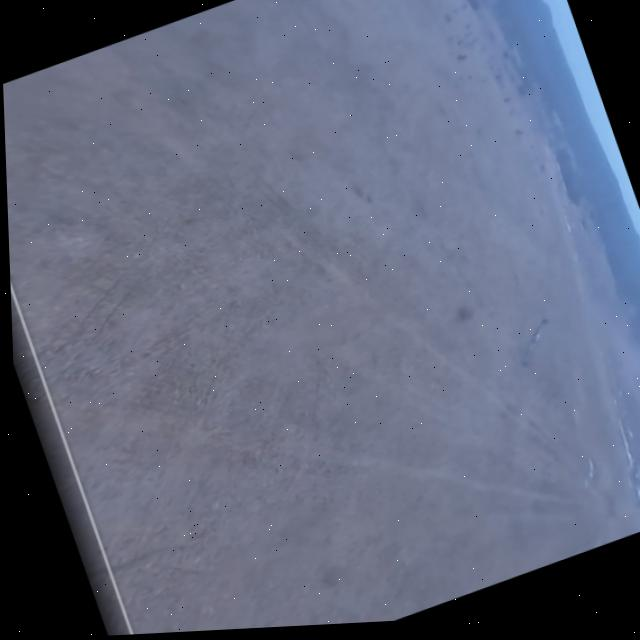planedrone: (498, 313, 568, 375)
